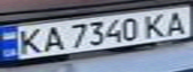0: (121, 15, 142, 42)
3: (84, 19, 109, 47)
4: (103, 16, 127, 44)
7: (66, 20, 90, 50)
A: (160, 8, 193, 35), (39, 24, 66, 53)
K: (12, 26, 48, 56), (139, 11, 172, 38)
